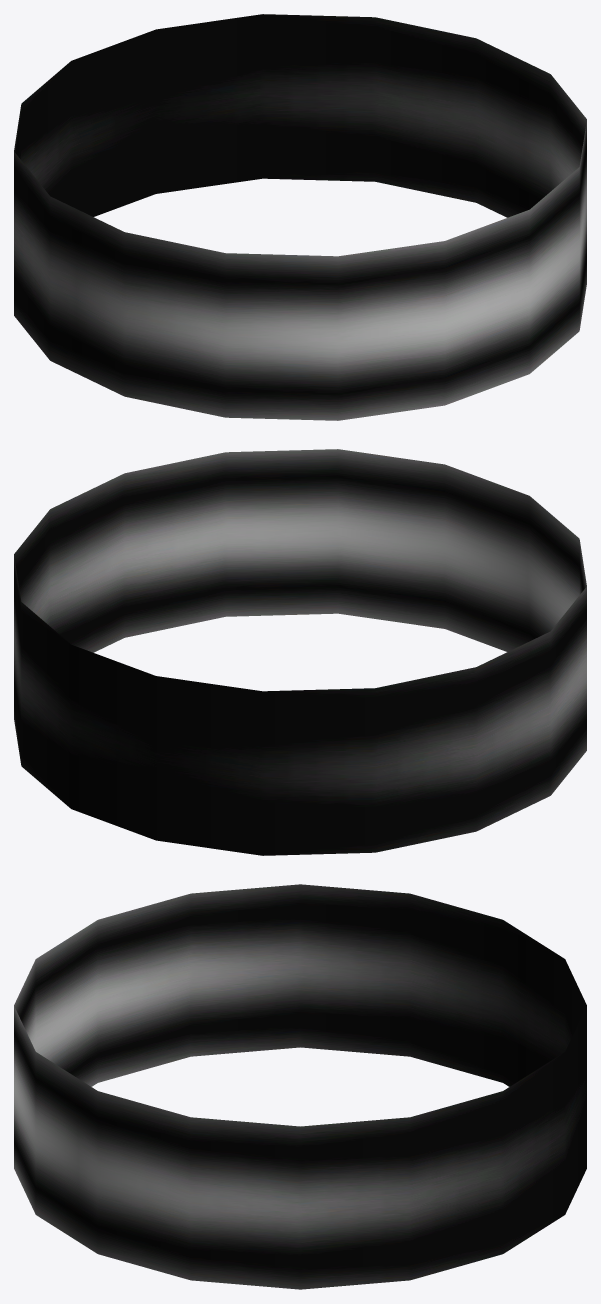
The model's file is vfx_kurp_0300.dae.
The picture shows the model from 3 angles, top to bottom: view 1: azimuth 30°, elevation 25°; view 2: azimuth 150°, elevation 25°; view 3: azimuth 270°, elevation 25°; orthographic projection.
Parts seen in each view (by area): view 1: vfx_kurp_0300; view 2: vfx_kurp_0300; view 3: vfx_kurp_0300.
Part boxes in pixels (x1,y1,x2,y2): vfx_kurp_0300: (14,14,586,420); vfx_kurp_0300: (14,449,586,855); vfx_kurp_0300: (14,884,586,1289).
Bounding box in the file's own units: 4.77 × 4.77 × 1.5.
Materials: 1 (1 with a texture image).
